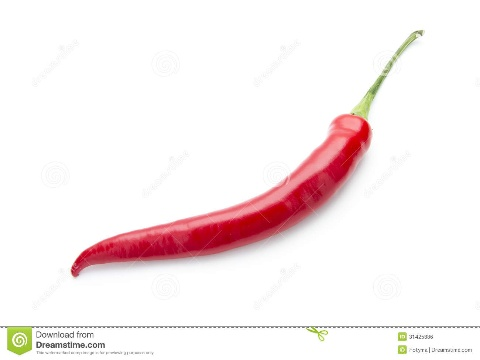Chilli: (43, 28, 442, 289)
